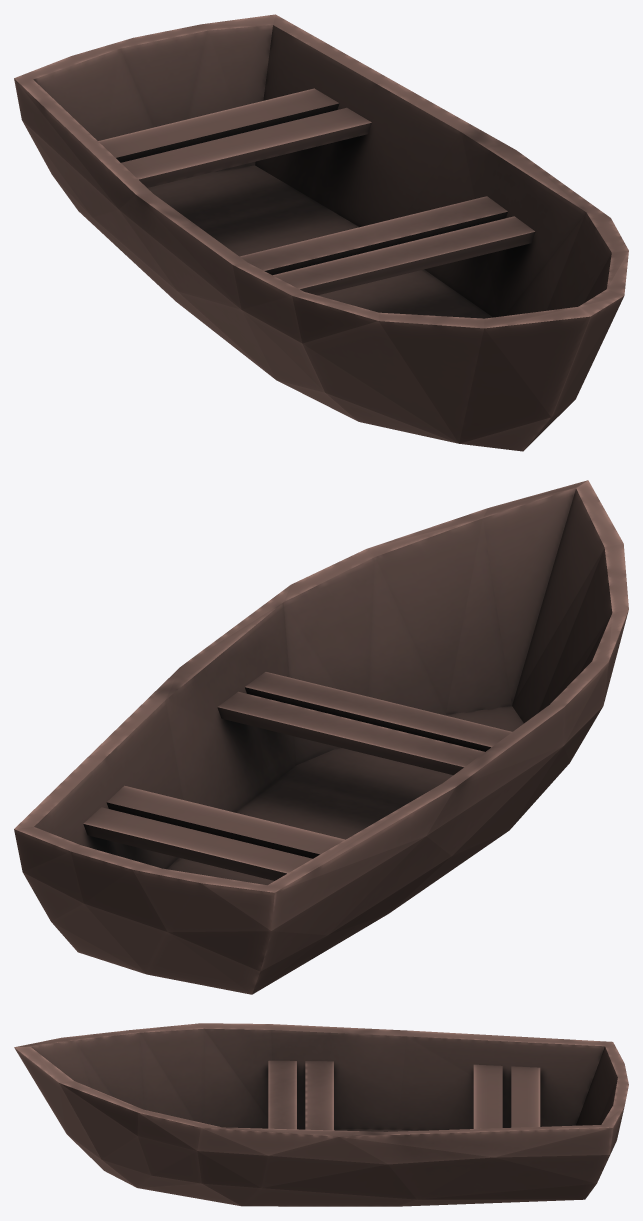
The model's file is Boat_3.fbx.
3 renders of one model, top to bottom at view 1: azimuth 30°, elevation 25°; view 2: azimuth 150°, elevation 25°; view 3: azimuth 270°, elevation 25°, orthographic. The views are drawn at different scales.
Visible parts, largest first — view 1: Boat_3; view 2: Boat_3; view 3: Boat_3.
Part boxes in pixels (<box>): Boat_3: <box>14,14,628,451</box>; Boat_3: <box>14,480,628,994</box>; Boat_3: <box>14,1023,628,1206</box>.
Size of the model in its own units: 48.22 by 114 by 25.47.
1 material, 1 textured.
